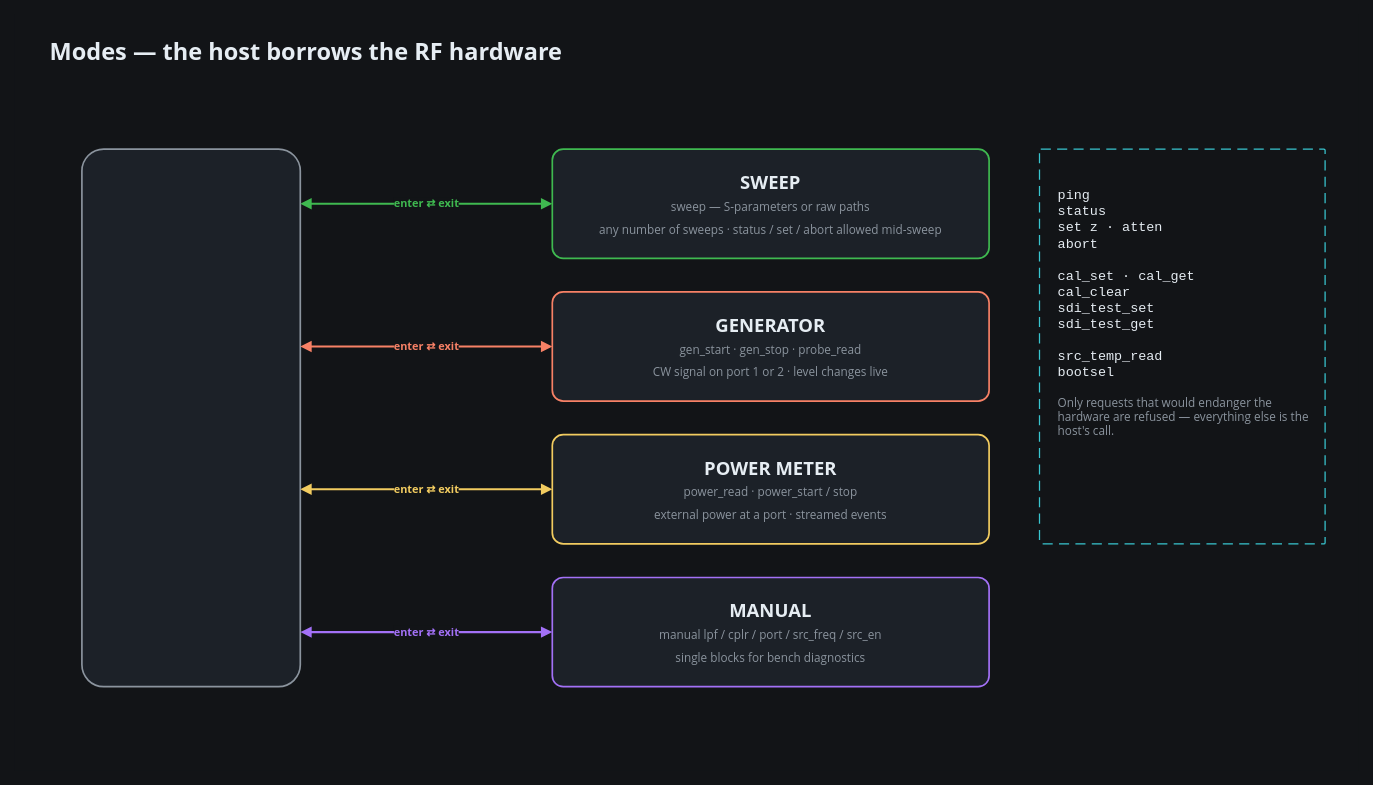
Some shapes in this 1373 by 785 pixel diagram are drawn without their labels. Here are the shapes that lost their labels. From the top down, the box of each, then its label:
(1038, 148, 1325, 544): Any time, any mode
(81, 148, 301, 687): IDLE output parked source running
